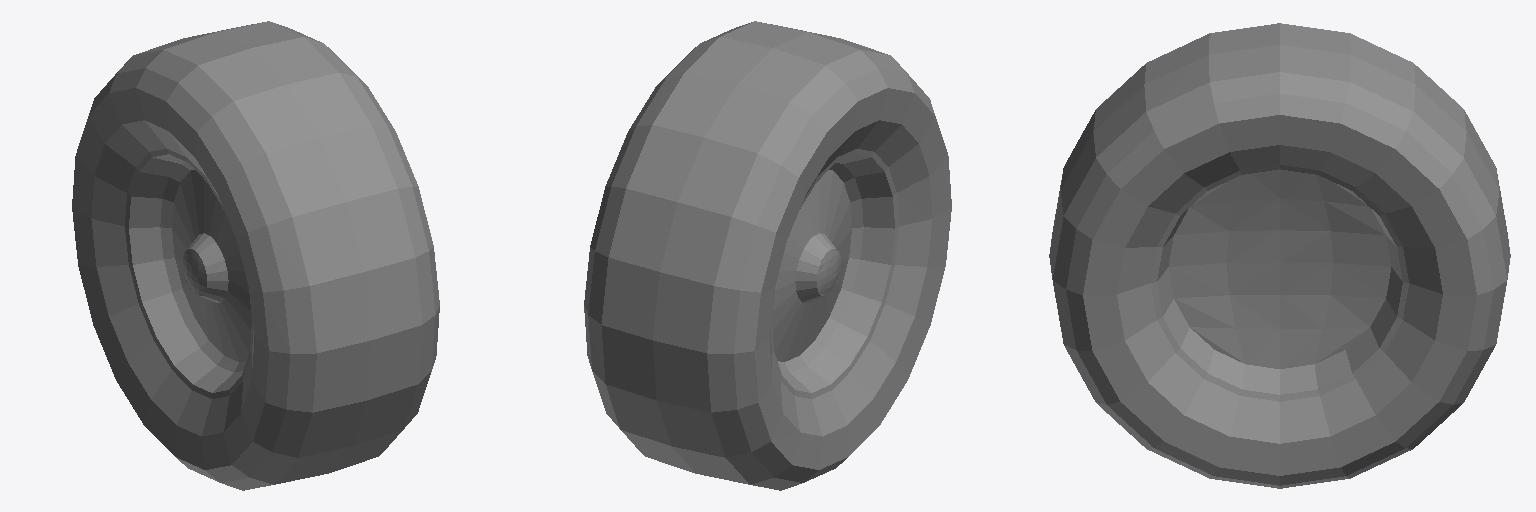
Rendered from ruedaIzq.obj.
The picture shows the model from 3 angles: view 1: azimuth 30°, elevation 25°; view 2: azimuth 150°, elevation 25°; view 3: azimuth 270°, elevation 25°; orthographic projection.
Visible parts, largest first — view 1: wheel1; view 2: wheel1; view 3: wheel1.
Boxes of the visible parts, x1=… form: wheel1: x1=72, y1=21, x2=439, y2=490; wheel1: x1=584, y1=21, x2=951, y2=490; wheel1: x1=1049, y1=23, x2=1510, y2=488.
Size of the model in its own units: 0.7193 by 1.6 by 1.6.